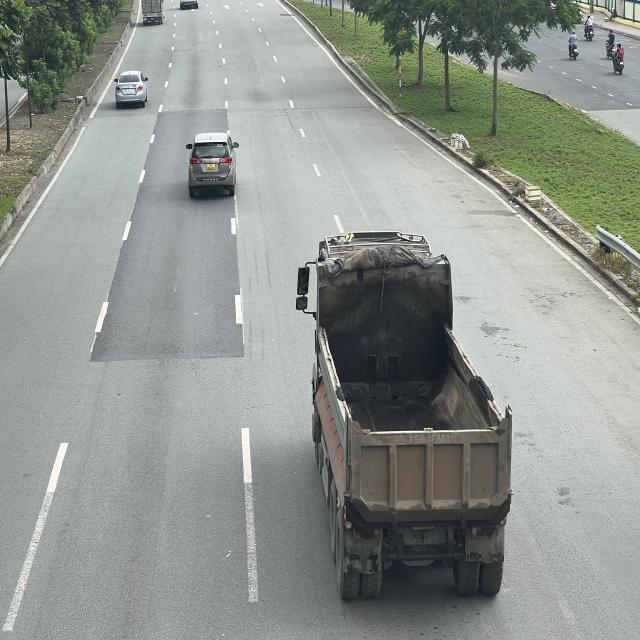car: (186, 130, 238, 194), (113, 69, 148, 106)
container: (295, 230, 514, 599)
